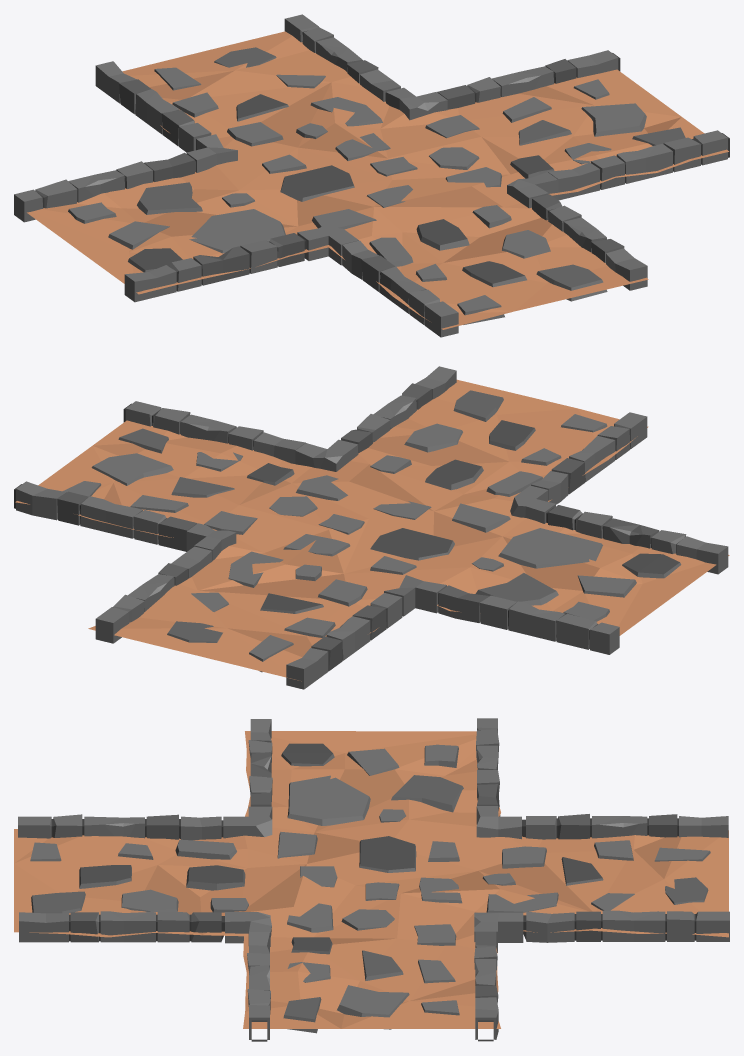
Rendered from road_crossroad_01.fbx.
The picture shows the model from 3 angles, top to bottom: view 1: azimuth 30°, elevation 25°; view 2: azimuth 150°, elevation 25°; view 3: azimuth 270°, elevation 25°; orthographic projection. The views are drawn at different scales.
Parts seen in each view (by area): view 1: road_crossroad_01.001; view 2: road_crossroad_01.001; view 3: road_crossroad_01.001.
Part boxes in pixels (left/top/right/bottom): road_crossroad_01.001: left=14, top=14, right=729, bottom=337; road_crossroad_01.001: left=14, top=366, right=729, bottom=689; road_crossroad_01.001: left=14, top=718, right=729, bottom=1041.
Bounding box in the file's own units: 9.54 × 0.3525 × 9.6.
